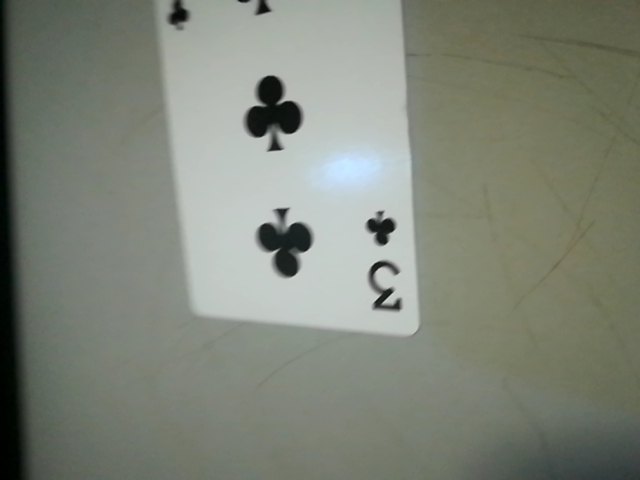mh 3: (355, 199, 418, 329)
